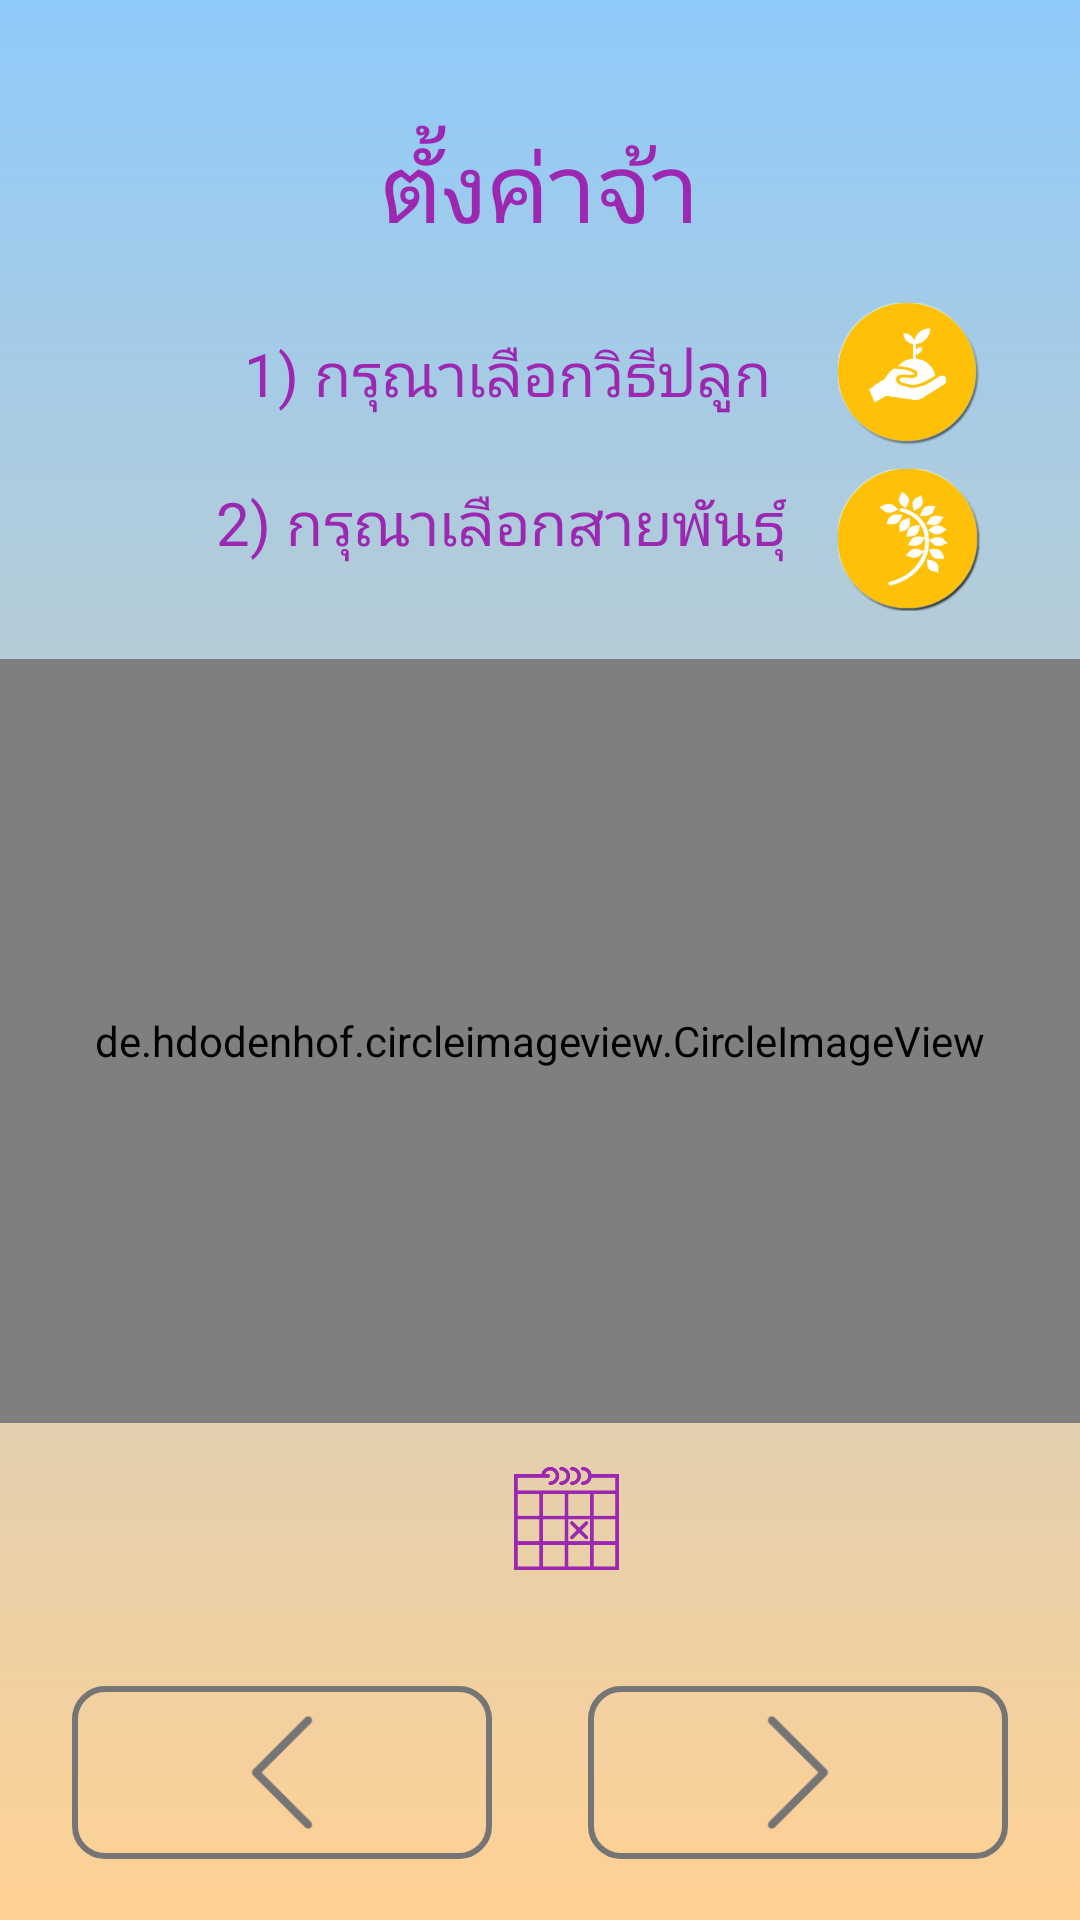

Named icons in this screenshot (1080 x 1920) and their bounding boxes, (x1=x1, y1=y1, x2=x2, y2=y2):
calendar: (x1=514, y1=1467, x2=619, y2=1570)
rice: (x1=838, y1=469, x2=980, y2=611)
